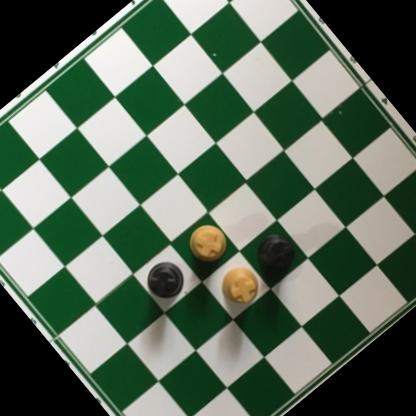black-rook: (247, 223, 307, 282), (140, 255, 191, 306)
white-rook: (180, 216, 236, 273), (212, 260, 266, 314)
